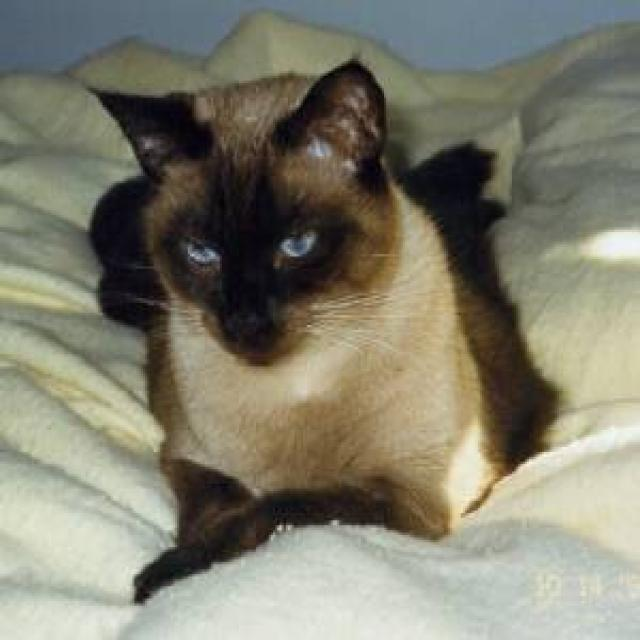Siamese: (81, 57, 414, 367)
